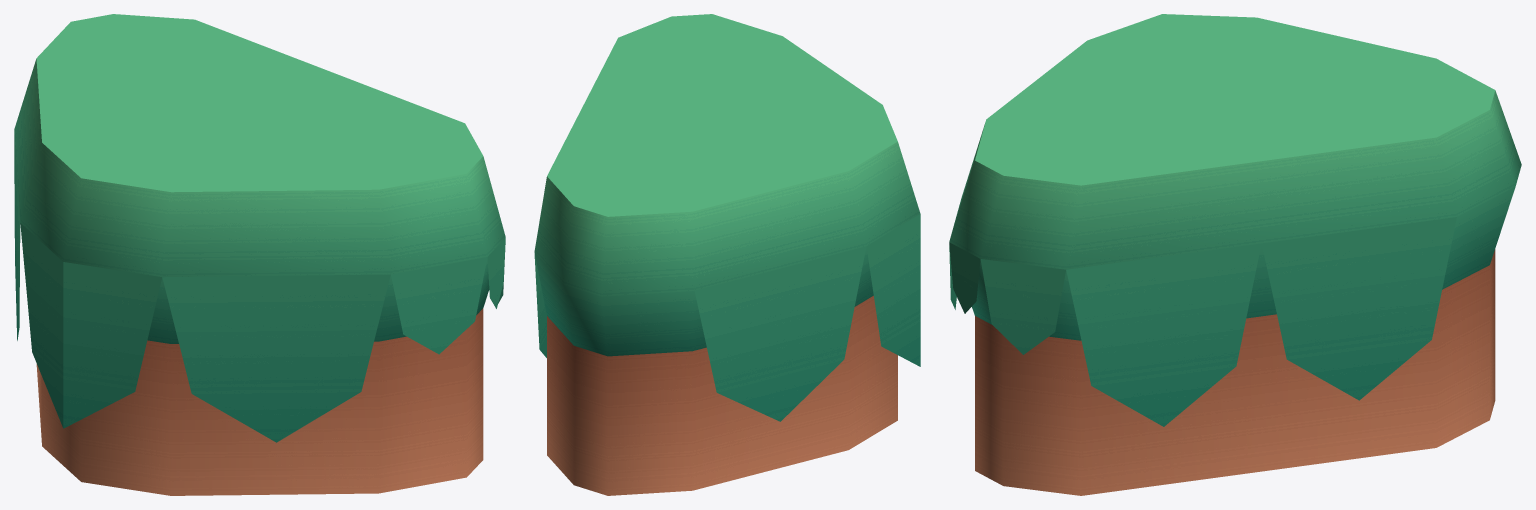
File: block-grass-corner-overhang-low.018_lev2.glb
3 views of the same model, side by side, from view 1: azimuth 30°, elevation 25°; view 2: azimuth 150°, elevation 25°; view 3: azimuth 270°, elevation 25° (orthographic). The views are drawn at different scales.
Parts seen in each view (by area): view 1: block-grass-corner-overhang-low.018_lev2; view 2: block-grass-corner-overhang-low.018_lev2; view 3: block-grass-corner-overhang-low.018_lev2.
Boxes of the visible parts, <box> form: block-grass-corner-overhang-low.018_lev2: <box>14,14,505,495</box>; block-grass-corner-overhang-low.018_lev2: <box>534,14,920,495</box>; block-grass-corner-overhang-low.018_lev2: <box>949,14,1521,495</box>.
Size of the model in its own units: 1.48 by 1.13 by 1.89.
Materials: 1 (1 with a texture image).
